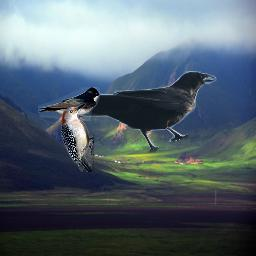Crow: (78, 71, 217, 153)
Swallow: (38, 87, 100, 121)
Woodpecker: (61, 103, 94, 172)
